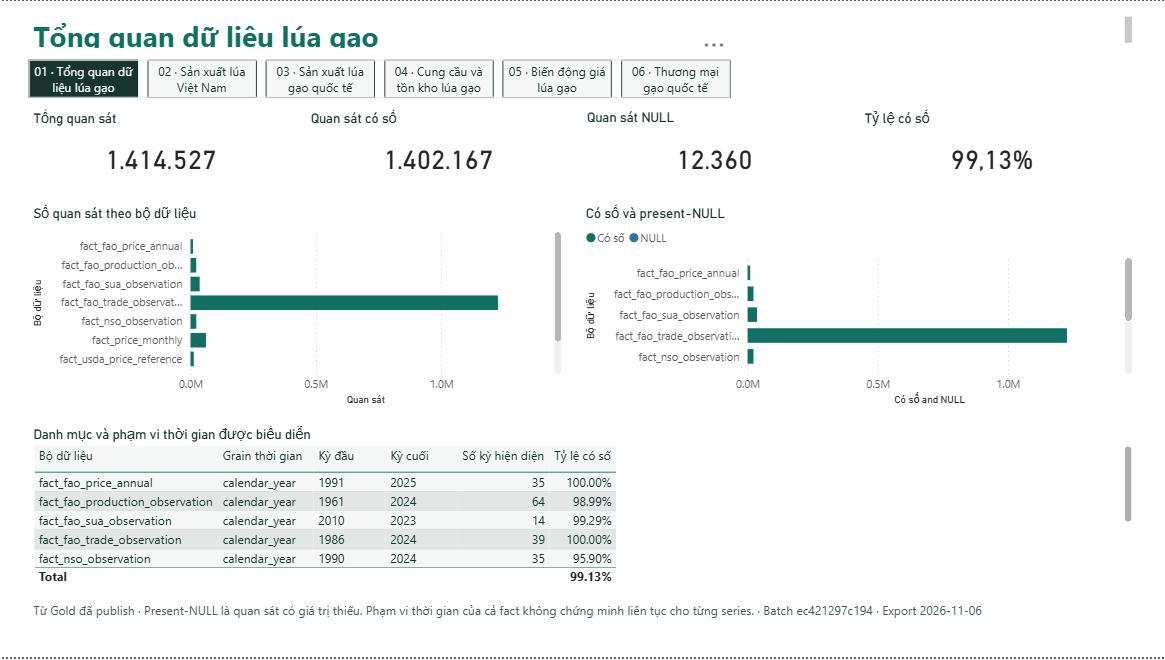

Layout of this report page (visuals, bound fields, positions):
{"tool":"powerbi","page":{"name":"01 · Tổng quan dữ liệu lúa gạo","canvas":[1280,720],"ordinal":0},"visuals":[{"type":"textbox","box":[32,12,1216,44],"z":1},{"type":"pageNavigator","box":[32,64,770,42],"z":2},{"type":"card","title":"Tổng quan sát","fields":{"Values":["Overview.Total Observations Display"]},"box":[32,120,290,90],"z":3},{"type":"card","title":"Quan sát có số","fields":{"Values":["Overview.Numeric Observations Display"]},"box":[336,120,290,90],"z":4},{"type":"card","title":"Quan sát NULL","fields":{"Values":["Overview.Present NULL Display"]},"box":[640,120,290,90],"z":5},{"type":"card","title":"Tỷ lệ có số","fields":{"Values":["Overview.Numeric Coverage Display"]},"box":[944,120,290,90],"z":6},{"type":"barChart","title":"Số quan sát theo bộ dữ liệu","fields":{"Category":["Overview.fact_name"],"Y":["Overview.Total Observations"]},"box":[32,224,590,225],"z":7},{"type":"barChart","title":"Có số và present-NULL","fields":{"Category":["Overview.fact_name"],"Y":["Overview.Numeric Observations","Overview.Present NULL"]},"box":[638,224,610,225],"z":8},{"type":"tableEx","title":"Danh mục và phạm vi thời gian được biểu diễn","fields":{"Values":["Overview.fact_name","Overview.period_grain","Overview.period_min","Overview.period_max","Overview.represented_periods","Overview.Numeric Coverage"]},"box":[32,466,1216,180],"z":9},{"type":"textbox","box":[32,654,1216,56],"z":90}]}

Visuals, with their boxes in screenshot pixels (x1, y1, x2, y2), scaled from the page's 1280x720 canvas onto the 1165x660 screenshot:
textbox: [29,11,1136,51]
pageNavigator: [29,59,730,97]
"Tổng quan sát" card: [29,110,293,192]
"Quan sát có số" card: [306,110,570,192]
"Quan sát NULL" card: [582,110,846,192]
"Tỷ lệ có số" card: [859,110,1123,192]
"Số quan sát theo bộ dữ liệu" barChart: [29,205,566,412]
"Có số và present-NULL" barChart: [581,205,1136,412]
"Danh mục và phạm vi thời gian được biểu diễn" tableEx: [29,427,1136,592]
textbox: [29,600,1136,651]
